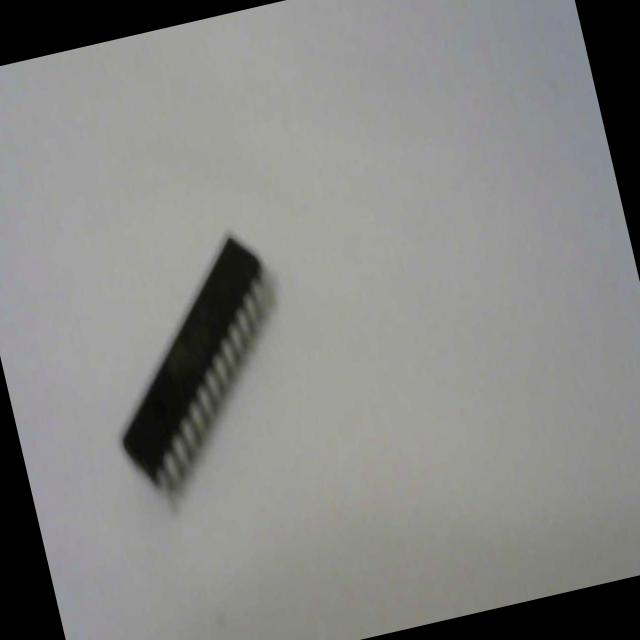atmega: (76, 220, 314, 508)
